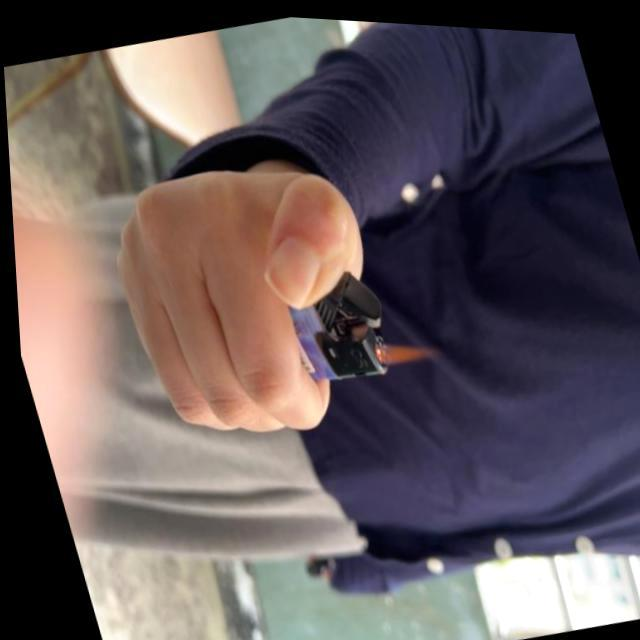fire: (368, 320, 436, 366)
